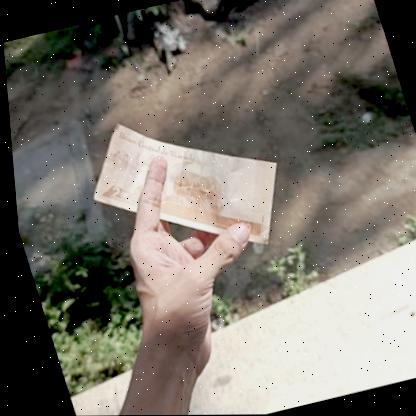vef_back: (67, 90, 298, 280)
